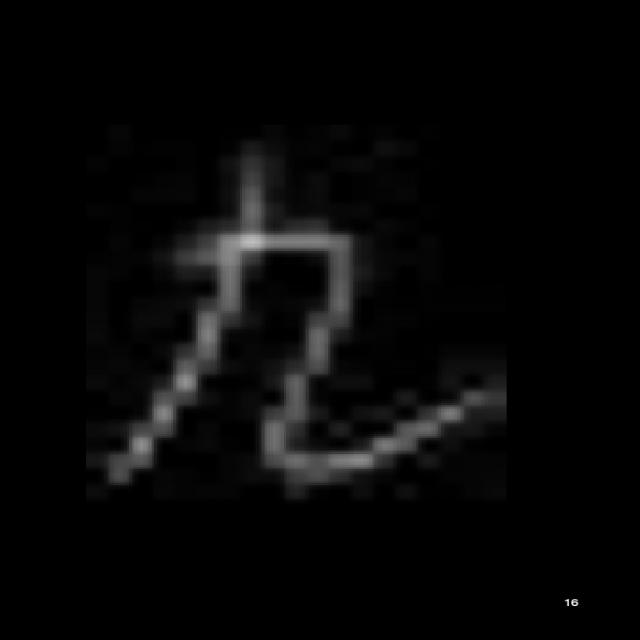9 -nine-: (86, 154, 515, 498)
